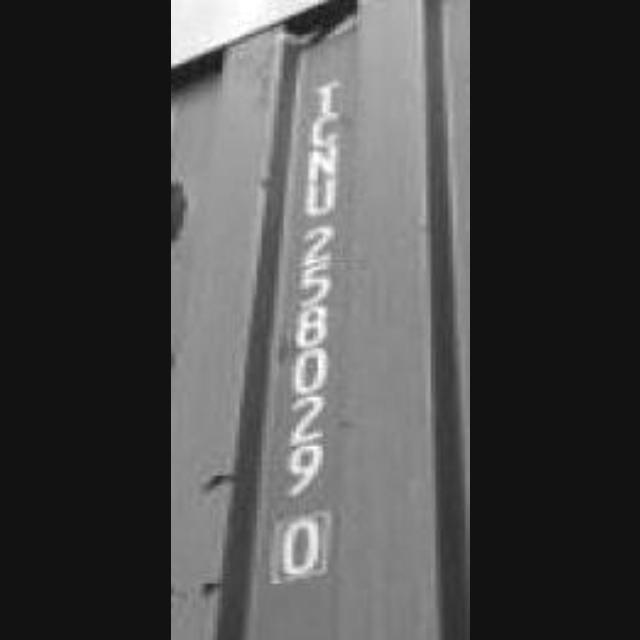0: (274, 514, 332, 588), (283, 346, 335, 400)
2: (280, 393, 336, 442), (298, 218, 338, 272)
5: (294, 263, 336, 303)
8: (290, 300, 340, 348)
9: (278, 440, 334, 492)
g: (304, 110, 346, 148)
n: (303, 144, 342, 182)
t: (300, 68, 344, 112)
u: (294, 179, 346, 221)
